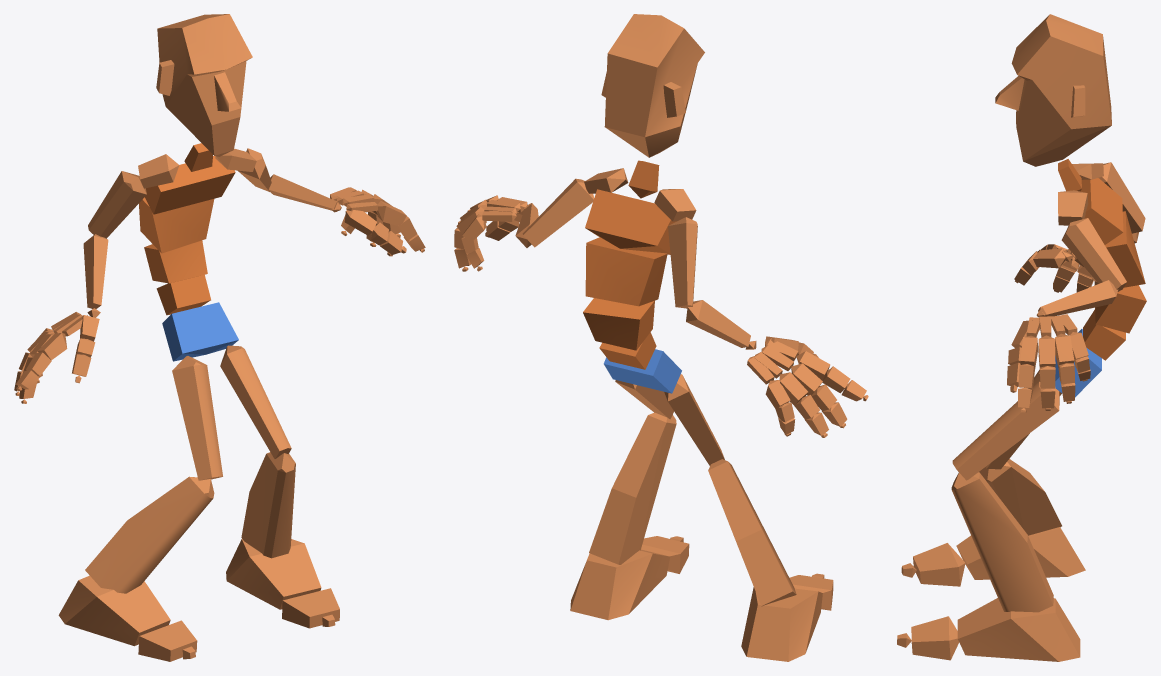
File: prueba167.obj
3 renders of one model, left to right at view 1: azimuth 30°, elevation 25°; view 2: azimuth 150°, elevation 25°; view 3: azimuth 270°, elevation 25°, orthographic. The views are drawn at different scales.
Parts seen in each view (by area): view 1: BOPED_Head, BOPED_R_leg, BOPED_R_foot, BOPED_L_leg, BOPED_R_foot01, BOPED_R_legup, Bone01, BOPED_L_legup, Bone04, Bone05, BOPED_R_arm_upper, Bone03 (+8 smaller); view 2: BOPED_Head, BOPED_L_leg, BOPED_R_leg, BOPED_R_foot01, BOPED_R_foot, Bone04, Bone05, Bone03, BOPED_R_arm_upper, BOPED_R_legup, BOPED_L_arm_upper, Bone01 (+8 smaller); view 3: BOPED_Head, BOPED_L_leg, BOPED_R_foot01, BOPED_L_legup, BOPED_R_leg, BOPED_R_foot, BOPED_L_arm_upper, Bone05, BOPED_R_foot_toe01, BOPED_R_foot_toe04, Bone03, BOPED_L_arm_fore (+12 smaller).
Part boxes in pixels (x1,y1,x2,y2): BOPED_Head: (156,14,252,156); BOPED_R_leg: (85,476,214,593); BOPED_R_foot: (58,575,170,646); BOPED_L_leg: (241,452,295,558); BOPED_R_foot01: (226,539,321,609); BOPED_R_legup: (172,356,222,480); Bone01: (162,302,238,361); BOPED_L_legup: (220,345,291,458); Bone04: (139,197,214,253); Bone05: (145,156,235,214); BOPED_R_arm_upper: (88,171,146,238); Bone03: (144,240,207,283); BOPED_Head: (601,14,704,157); BOPED_L_leg: (589,412,676,564); BOPED_R_leg: (708,459,796,606); BOPED_R_foot01: (570,549,670,620); BOPED_R_foot: (741,587,822,661); Bone04: (585,237,667,306); Bone05: (585,189,676,254); Bone03: (583,298,654,350); BOPED_R_arm_upper: (668,217,697,308); BOPED_R_legup: (664,374,724,465); BOPED_L_arm_upper: (522,178,594,247); Bone01: (603,349,681,393); BOPED_Head: (995,14,1111,166); BOPED_L_leg: (951,472,1053,612); BOPED_R_foot01: (957,598,1080,661); BOPED_L_legup: (952,381,1059,480); BOPED_R_leg: (979,459,1061,535); BOPED_R_foot: (956,527,1085,579); BOPED_L_arm_upper: (1061,218,1126,291); Bone05: (1080,178,1123,244); BOPED_R_foot_toe01: (913,543,965,586); BOPED_R_foot_toe04: (911,616,959,660); Bone03: (1095,285,1146,333); BOPED_L_arm_fore: (1038,280,1118,316).
Bounding box in the file's own units: 130 × 179 × 67.3.
